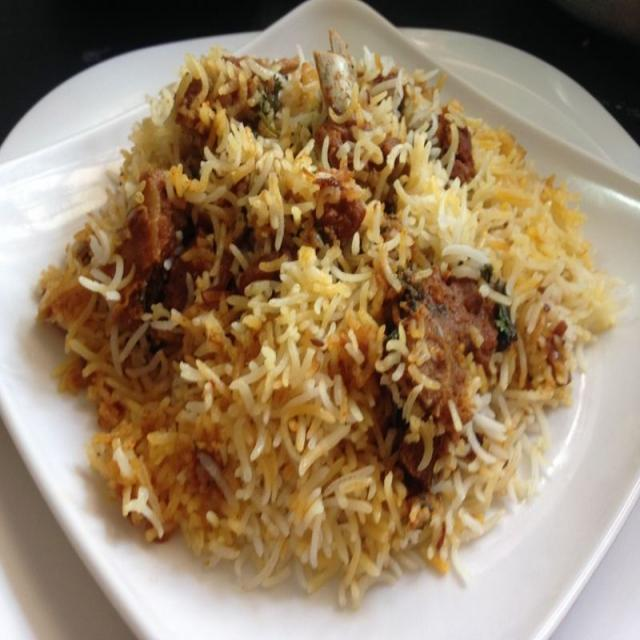Rice: (35, 27, 621, 613)
